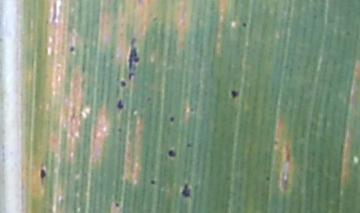tarspot: (125, 36, 141, 81), (179, 180, 193, 199), (38, 165, 47, 182), (115, 97, 125, 111), (229, 88, 240, 99), (167, 148, 177, 158), (119, 78, 127, 89), (68, 45, 76, 54), (185, 141, 194, 149), (168, 115, 176, 123), (149, 178, 157, 186), (114, 201, 122, 209), (145, 95, 153, 103), (240, 21, 247, 29), (189, 106, 196, 114), (265, 174, 272, 182), (117, 127, 124, 134)
